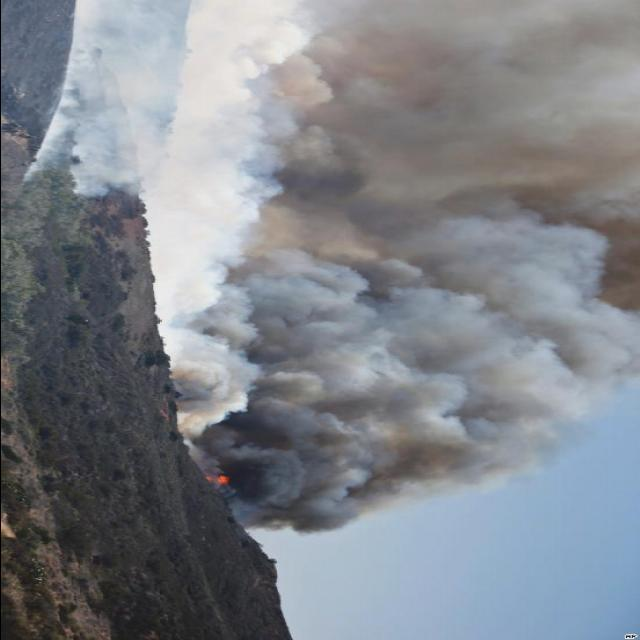Fire: (203, 472, 236, 486)
